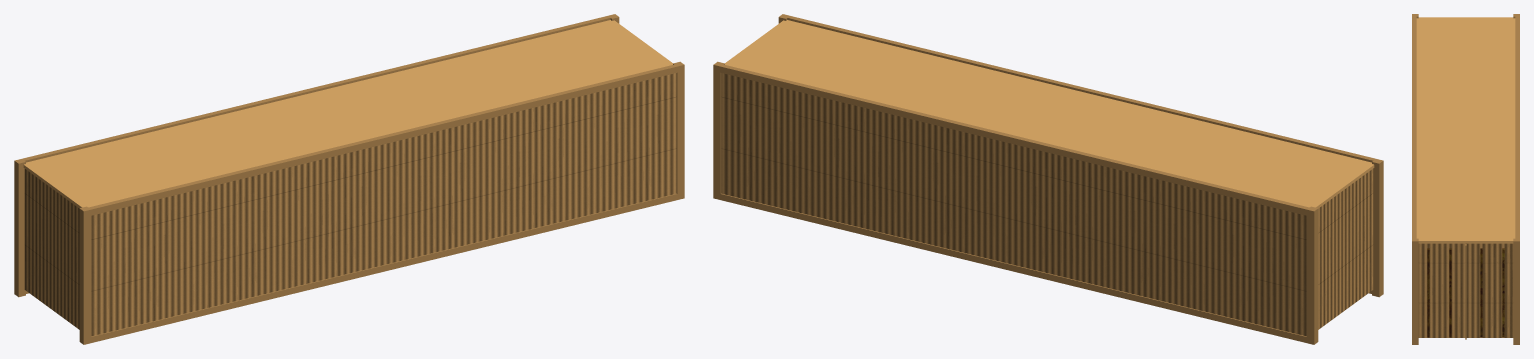
Rendered from iso-40-orange.loc-v1.lod0.glb.
The picture shows the model from 3 angles, left to right: view 1: azimuth 30°, elevation 25°; view 2: azimuth 150°, elevation 25°; view 3: azimuth 270°, elevation 25°; orthographic projection. The views are drawn at different scales.
Visible parts, largest first — view 1: iso-40-orange; view 2: iso-40-orange; view 3: iso-40-orange.
Boxes of the visible parts, x1,y1,x2,y2 form: iso-40-orange: [14, 14, 684, 344]; iso-40-orange: [713, 14, 1383, 344]; iso-40-orange: [1412, 14, 1519, 344].
Size of the model in its own units: 12.2 by 2.59 by 2.44.
3 materials, 2 textured.
